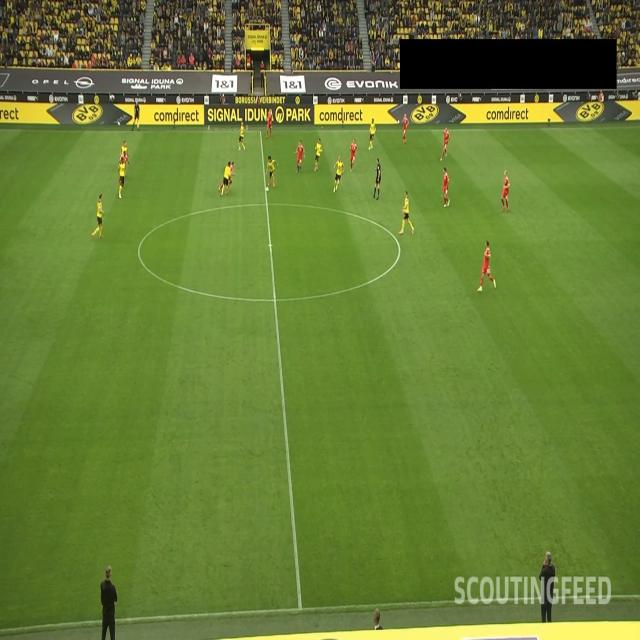ball: (265, 186, 269, 193)
